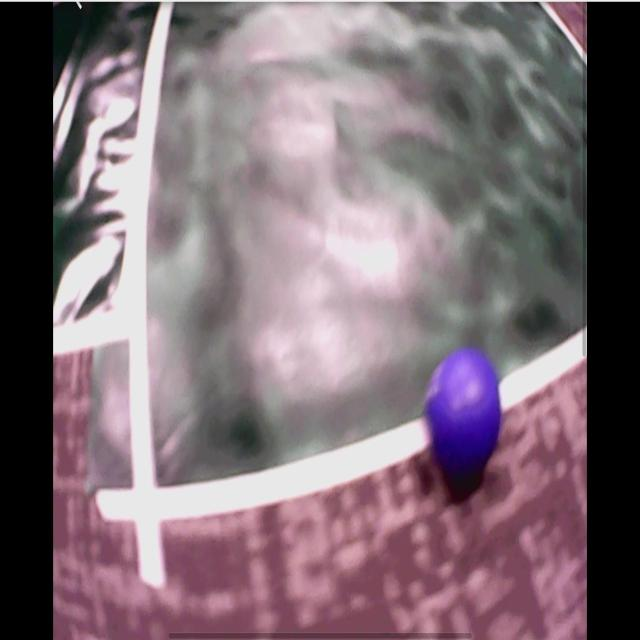ball: (427, 349, 504, 477)
